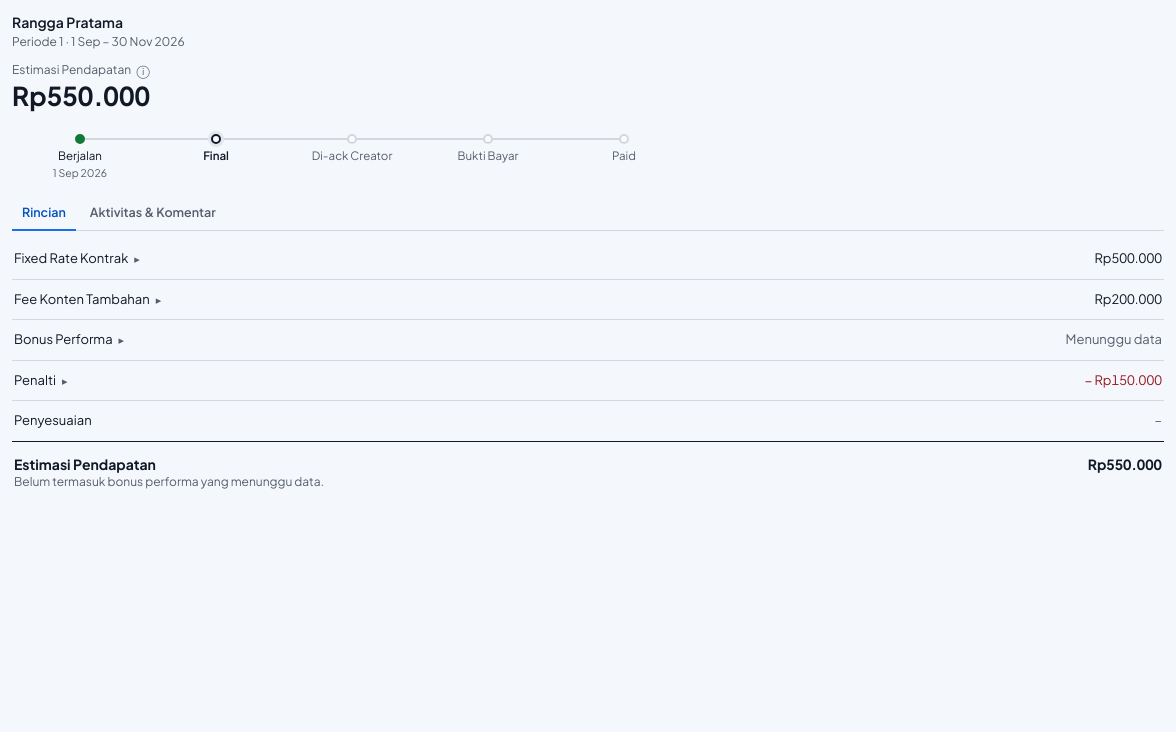
Test case: CreatorInvoiceView › the parts › folds a part again when it is pressed a second time
Click the button "Penalti ▸ − Rp150.000" at (35, 380), box [12,361,1164,400]
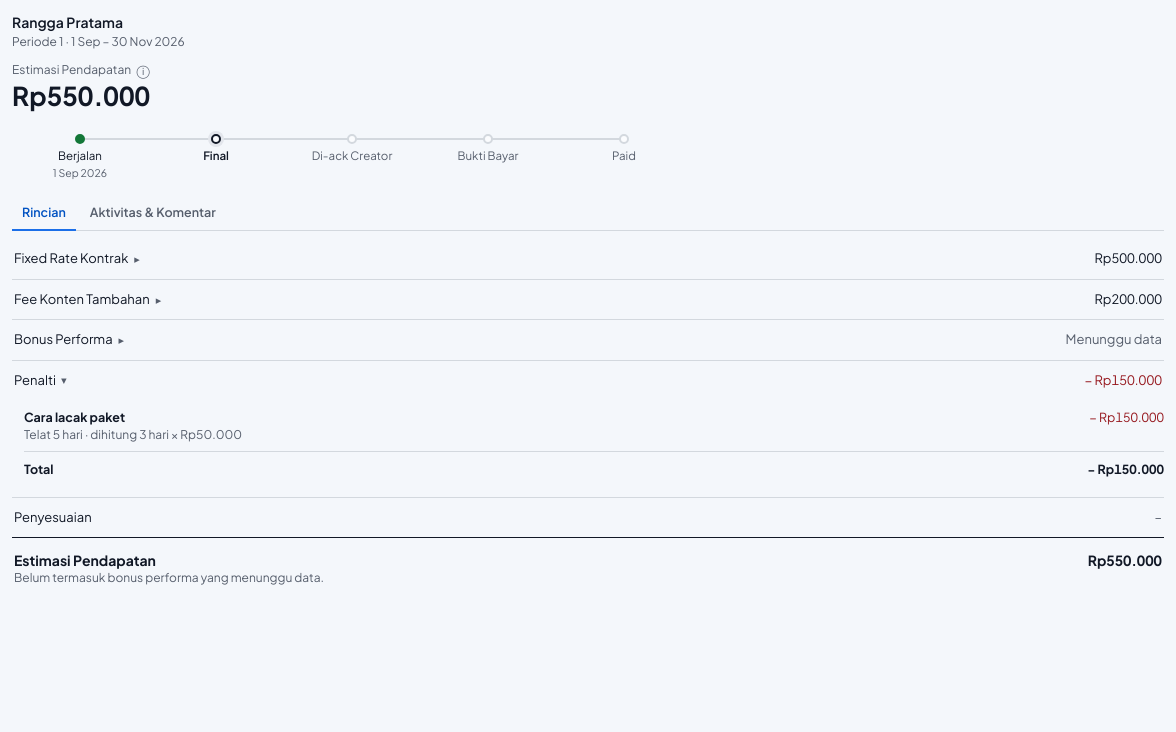
Click the button "Penalti ▸ − Rp150.000" at (35, 380), box [12,361,1164,400]
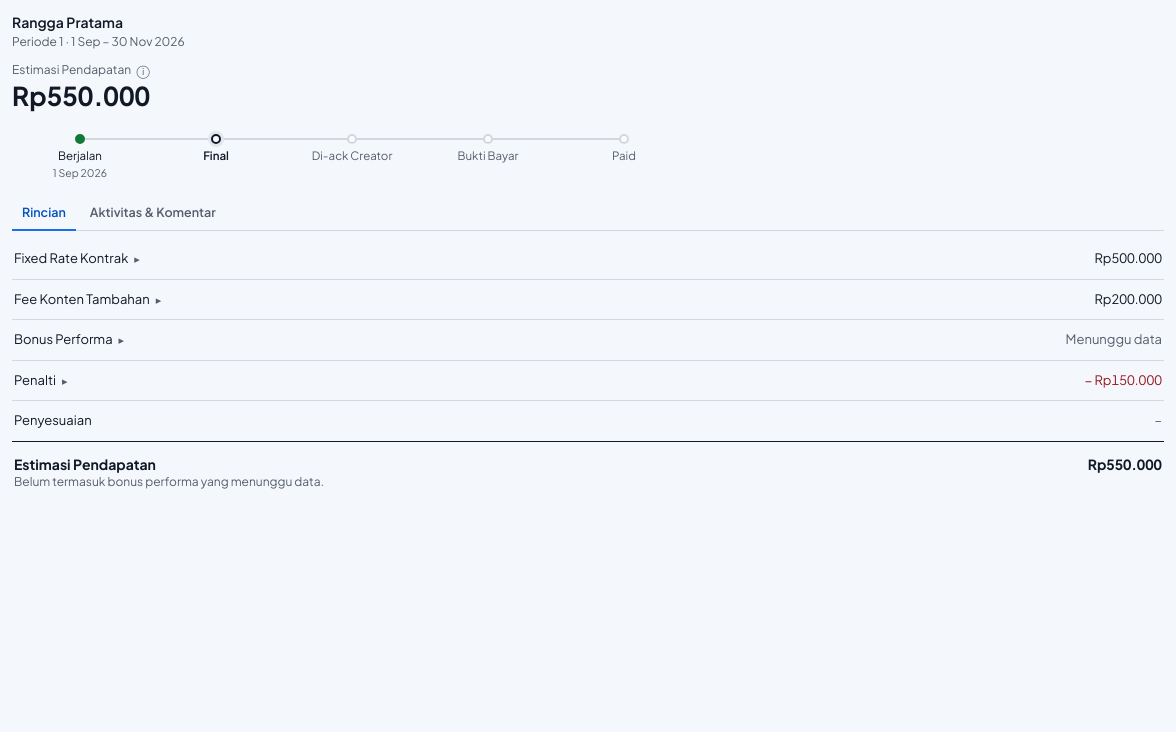
Result: the button "Cara lacak paket" is gone
